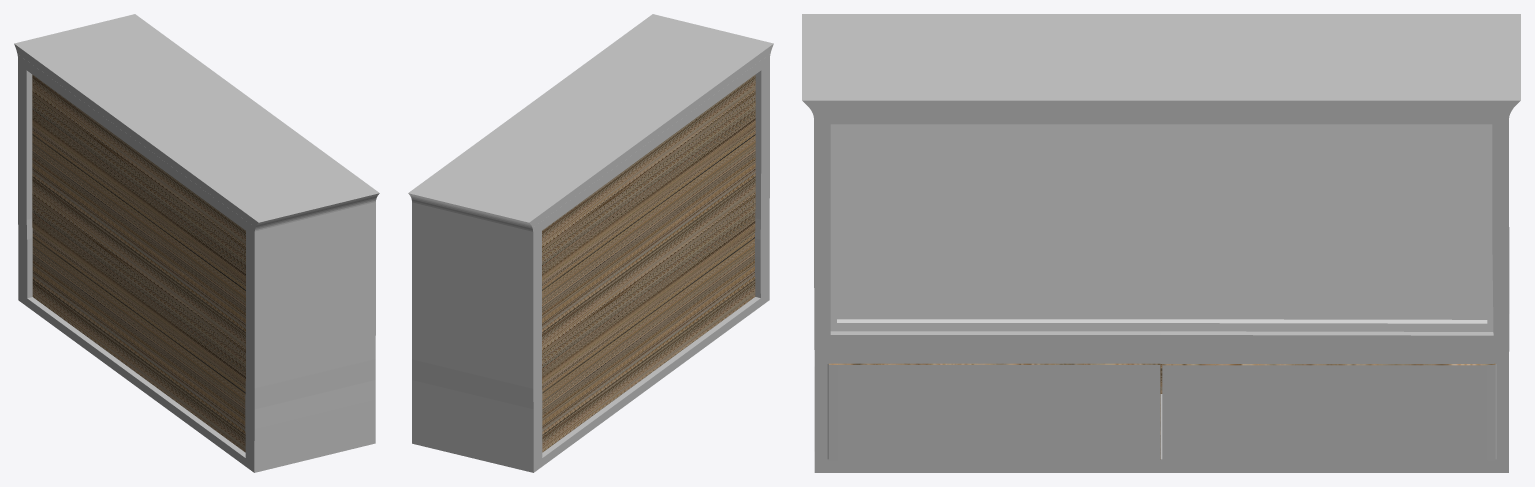
Rendered from GamesRoomBookshelf 2.fbx.
3 renders of one model, left to right at view 1: azimuth 30°, elevation 25°; view 2: azimuth 150°, elevation 25°; view 3: azimuth 270°, elevation 25°, orthographic. The views are drawn at different scales.
Visible parts, largest first — view 1: Art Display; view 2: Art Display; view 3: Art Display.
Part boxes in pixels (bbox=[...]): Art Display: bbox=[14, 14, 379, 472]; Art Display: bbox=[408, 14, 773, 472]; Art Display: bbox=[802, 14, 1520, 472].
Size of the model in its own units: 102 by 200 by 350.
